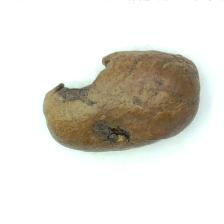NG: (47, 53, 122, 107)
